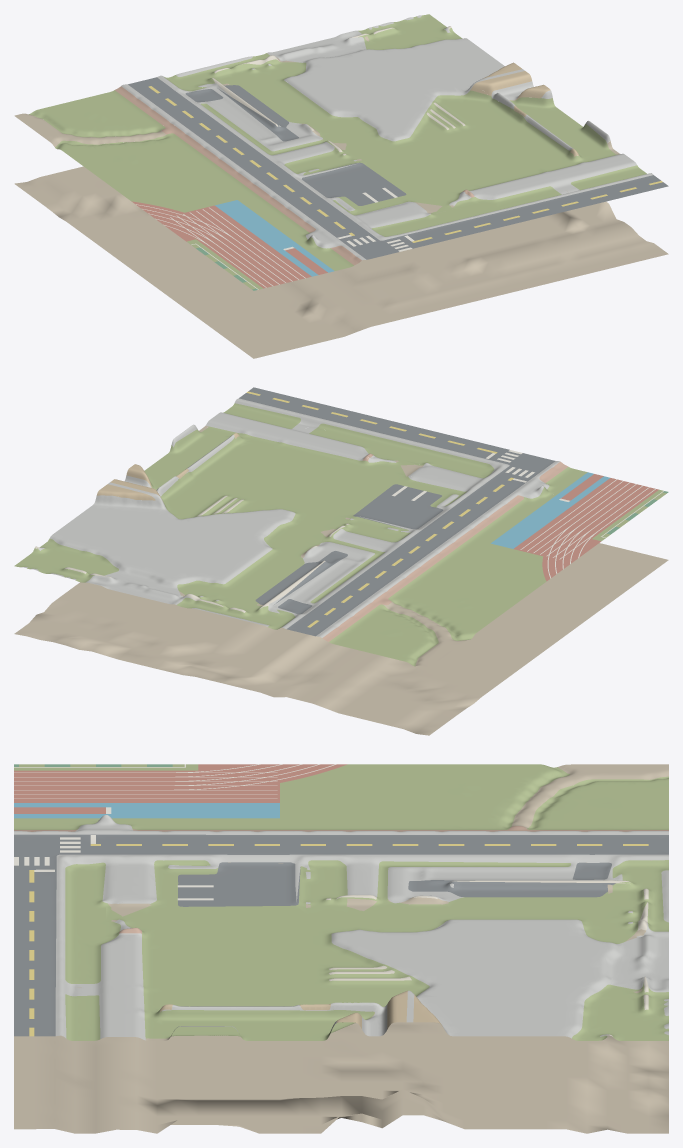
The picture shows the model from 3 angles, top to bottom: view 1: azimuth 30°, elevation 25°; view 2: azimuth 150°, elevation 25°; view 3: azimuth 270°, elevation 25°; orthographic projection. The views are drawn at different scales.
Parts seen in each view (by area): view 1: s_-7_3__grass, s_-7_3__soil, s_-7_3__stone_paving, s_-7_3__asphalt, s_-7_3__red_court, s_-7_3__brick_paving, s_-7_3__blue_court, s_-7_3__white_marking, s_-7_3__timber_deck, s_-7_3__paving, s_-7_3__yellow_marking; view 2: s_-7_3__grass, s_-7_3__soil, s_-7_3__stone_paving, s_-7_3__asphalt, s_-7_3__red_court, s_-7_3__brick_paving, s_-7_3__blue_court, s_-7_3__white_marking, s_-7_3__timber_deck, s_-7_3__paving, s_-7_3__yellow_marking; view 3: s_-7_3__grass, s_-7_3__soil, s_-7_3__stone_paving, s_-7_3__asphalt, s_-7_3__red_court, s_-7_3__blue_court, s_-7_3__white_marking, s_-7_3__paving, s_-7_3__timber_deck, s_-7_3__yellow_marking, s_-7_3__brick_paving.
Part boxes in pixels (x1,y1,x2,y2): s_-7_3__grass: [29, 14, 646, 289]; s_-7_3__soil: [14, 36, 668, 358]; s_-7_3__stone_paving: [121, 15, 653, 260]; s_-7_3__asphalt: [128, 77, 668, 259]; s_-7_3__red_court: [131, 201, 327, 288]; s_-7_3__brick_paving: [115, 86, 474, 265]; s_-7_3__blue_court: [215, 200, 334, 276]; s_-7_3__white_marking: [136, 187, 414, 289]; s_-7_3__timber_deck: [470, 62, 578, 156]; s_-7_3__paving: [212, 26, 465, 155]; s_-7_3__yellow_marking: [148, 86, 662, 242]; s_-7_3__grass: [14, 403, 666, 666]; s_-7_3__soil: [14, 425, 668, 735]; s_-7_3__stone_paving: [22, 398, 560, 637]; s_-7_3__asphalt: [239, 387, 555, 636]; s_-7_3__red_court: [514, 474, 658, 581]; s_-7_3__brick_paving: [322, 453, 568, 641]; s_-7_3__blue_court: [491, 472, 610, 548]; s_-7_3__white_marking: [392, 450, 663, 578]; s_-7_3__timber_deck: [96, 432, 239, 500]; s_-7_3__paving: [35, 495, 348, 612]; s_-7_3__yellow_marking: [246, 391, 513, 627]; s_-7_3__grass: [14, 764, 668, 1040]; s_-7_3__soil: [14, 764, 668, 1133]; s_-7_3__stone_paving: [14, 815, 668, 1040]; s_-7_3__asphalt: [14, 834, 668, 1036]; s_-7_3__red_court: [14, 764, 347, 813]; s_-7_3__blue_court: [14, 803, 279, 818]; s_-7_3__white_marking: [14, 764, 336, 900]; s_-7_3__paving: [326, 880, 648, 1036]; s_-7_3__timber_deck: [160, 990, 442, 1029]; s_-7_3__yellow_marking: [29, 844, 648, 1036]; s_-7_3__brick_paving: [14, 826, 668, 933].
Size of the model in its own units: 128 by 24.69 by 128.
